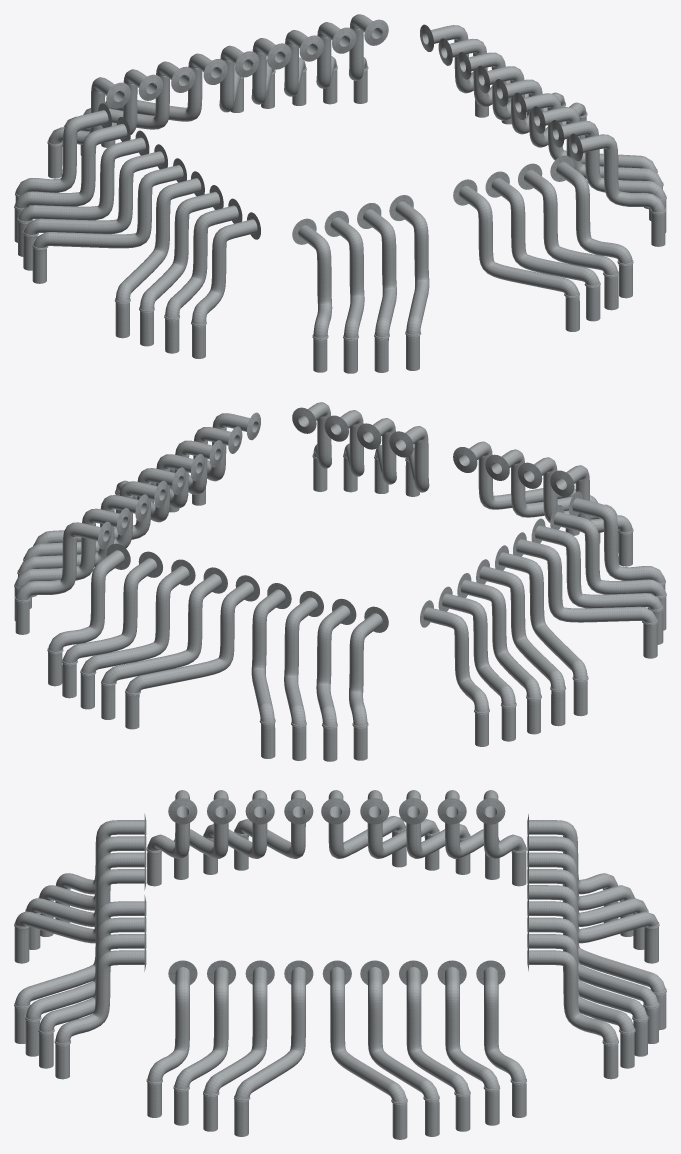
File: field_winter_outisde_pipe.fbx
3 renders of one model, top to bottom at view 1: azimuth 30°, elevation 25°; view 2: azimuth 150°, elevation 25°; view 3: azimuth 270°, elevation 25°, orthographic. The views are drawn at different scales.
Visible parts, largest first — view 1: field_winter_outisde_pipe; view 2: field_winter_outisde_pipe; view 3: field_winter_outisde_pipe.
Part boxes in pixels (x1,y1,x2,y2): field_winter_outisde_pipe: [14, 14, 666, 373]; field_winter_outisde_pipe: [14, 402, 666, 761]; field_winter_outisde_pipe: [14, 790, 666, 1139].
Bounding box in the file's own units: 10465 × 2125 × 10346.
Materials: 1 (1 with a texture image).
